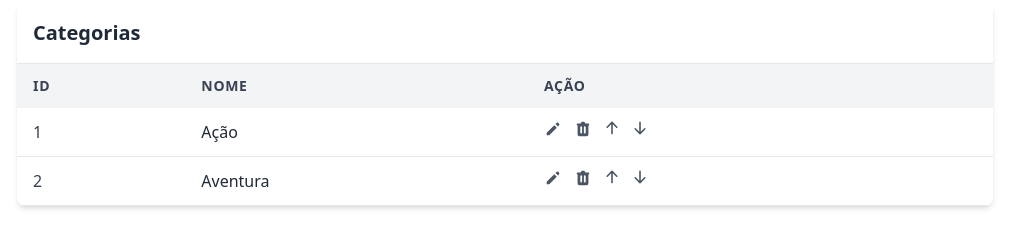
Scenario: ViewCategories Component › enters edit mode when edit icon is clicked
Click the 1st element with test id "edit-icon" at (553, 129), box [544,120,562,138]
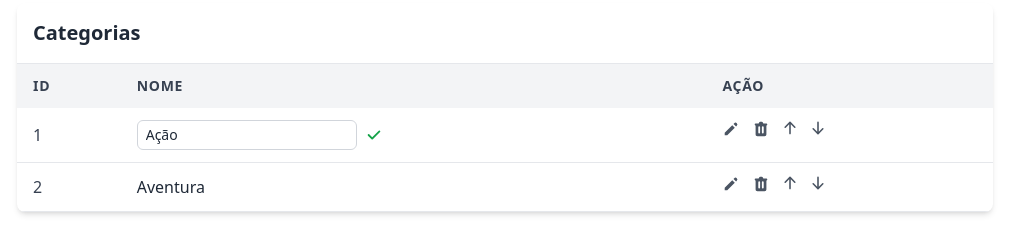
Expected: the field showing "Ação" is shown, [137,120,357,150]
